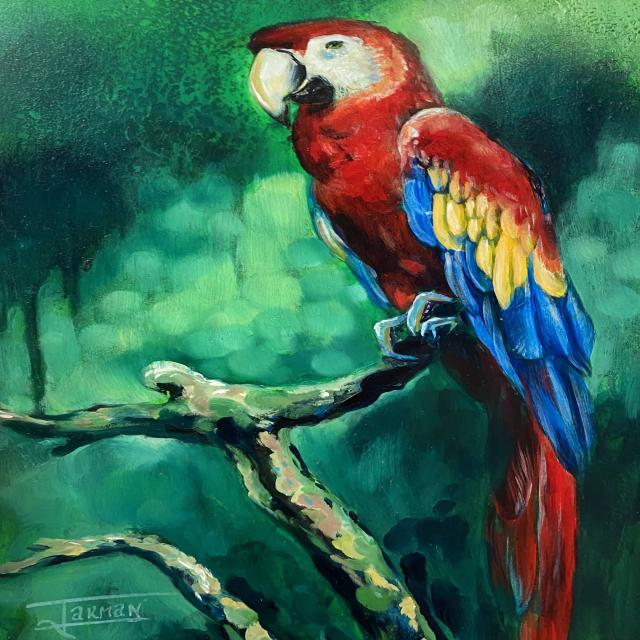Parrot: (246, 14, 589, 640)
